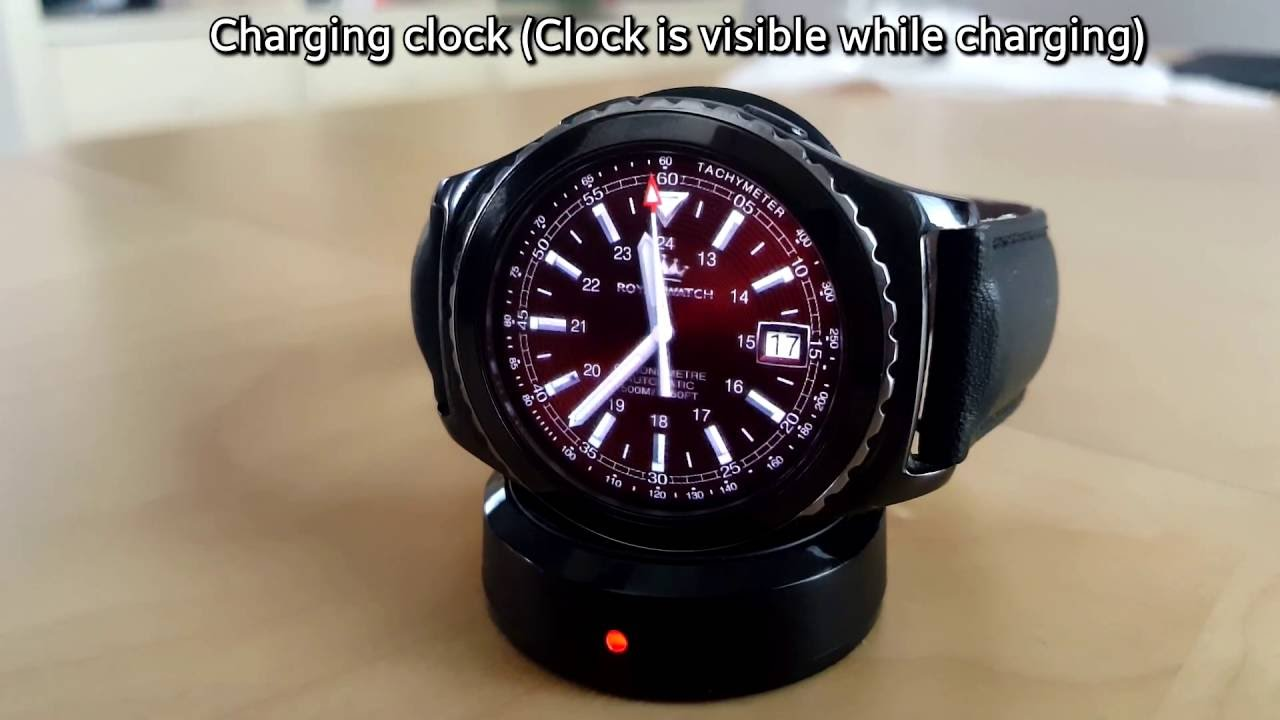clock: (452, 100, 901, 547)
